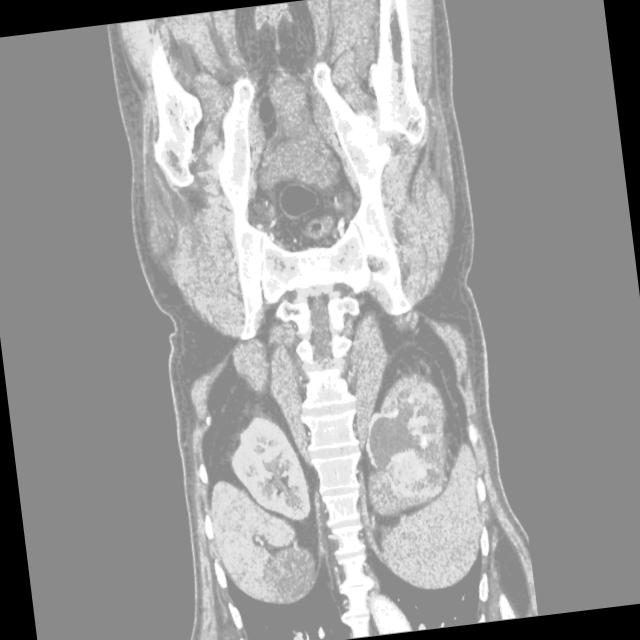TUMOR: (148, 329, 509, 506)
